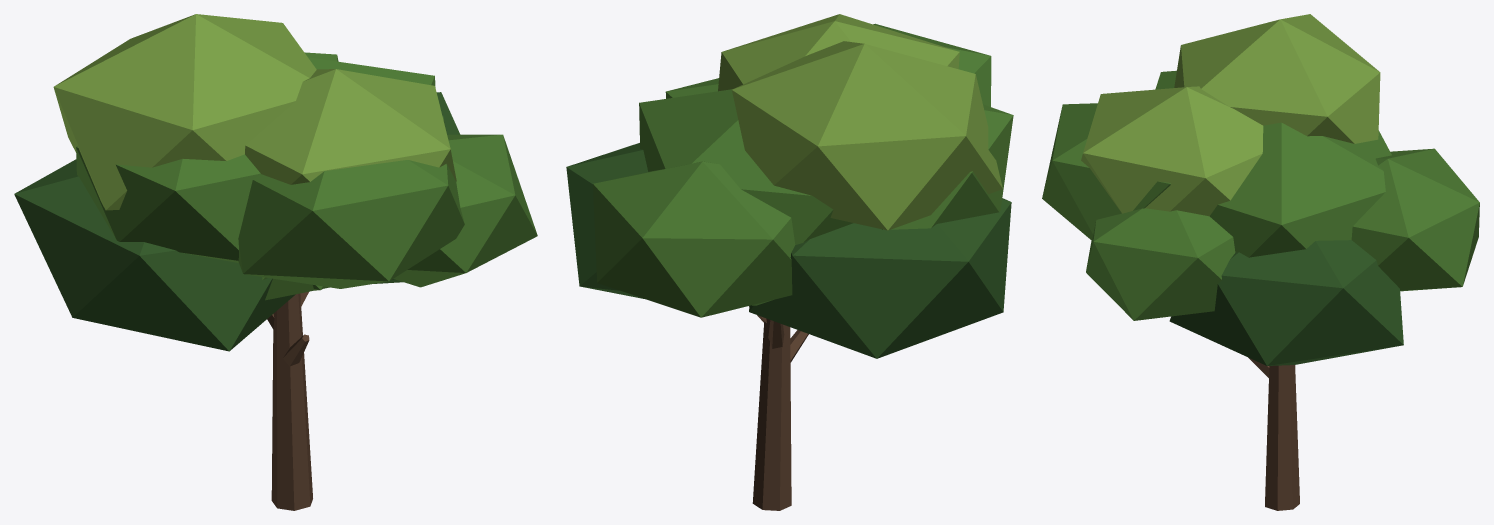
Rendered from UM_Eiche.fbx.
3 renders of one model, left to right at view 1: azimuth 30°, elevation 25°; view 2: azimuth 150°, elevation 25°; view 3: azimuth 270°, elevation 25°, orthographic. The views are drawn at different scales.
Visible parts, largest first — view 1: UM_Eiche; view 2: UM_Eiche; view 3: UM_Eiche.
Boxes of the visible parts, x1,y1,x2,y2 form: UM_Eiche: (14,14,537,510); UM_Eiche: (566,14,1013,510); UM_Eiche: (1042,14,1479,510).
Size of the model in its own units: 7.78 by 8.82 by 7.89.
